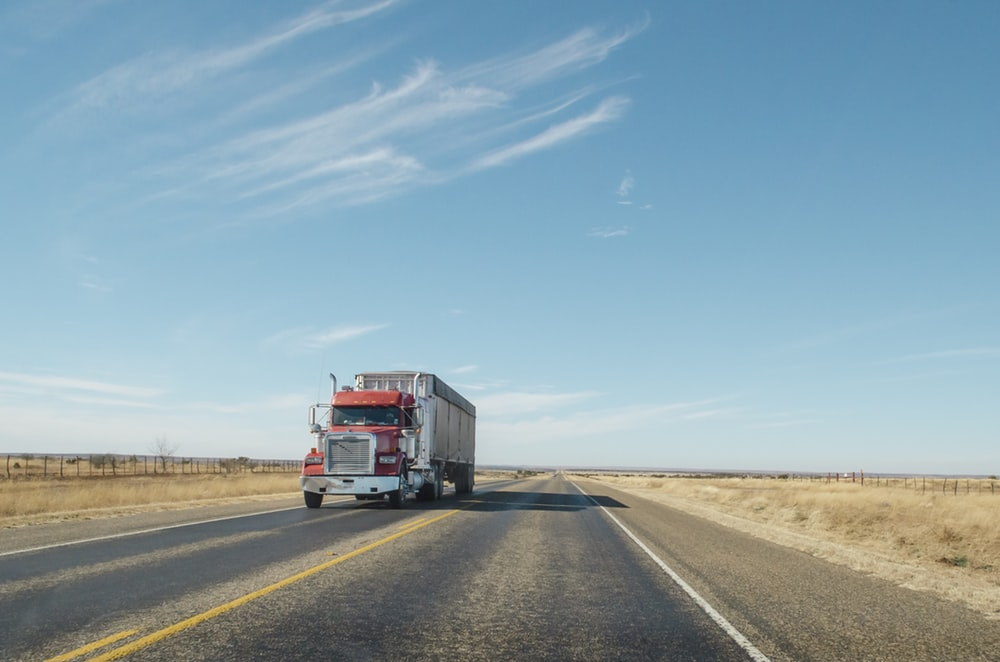truck: (270, 326, 527, 532)
